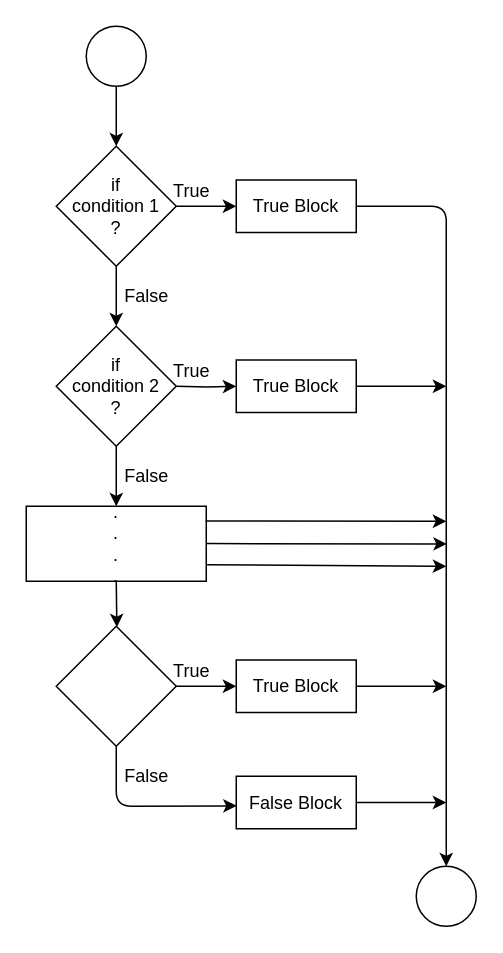
The diagram is 503 pixels wide and 953 high, and some of its shapes have lost their labels. The centre of each missing label's shape, as x and y in pixels:
"End" belongs at pixel 445 895.
"if condition n ?" belongs at pixel 115 685.
"Start" belongs at pixel 115 55.
